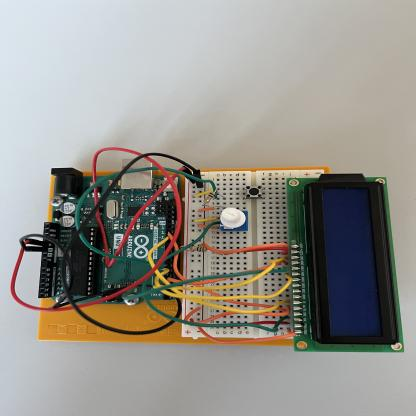5V: (10, 182, 182, 312), (90, 146, 171, 267)
ARDUINO: (50, 174, 181, 303)
Breadboard: (182, 170, 340, 339)
Button: (246, 186, 262, 199)
GND: (66, 152, 196, 254), (72, 285, 183, 335)
Long wire: (141, 223, 291, 333), (75, 167, 217, 268), (148, 236, 288, 314), (168, 233, 289, 312), (124, 266, 288, 300), (155, 268, 293, 300), (152, 260, 281, 291), (167, 259, 289, 285), (185, 305, 291, 325), (198, 325, 294, 345), (201, 242, 288, 255), (192, 318, 289, 328), (227, 246, 289, 254)
Potentiometer: (220, 207, 247, 231)
Resistor: (203, 193, 214, 204), (189, 246, 207, 252)
Short wire: (194, 190, 213, 197), (193, 218, 217, 222), (198, 207, 215, 212), (198, 224, 215, 228)
